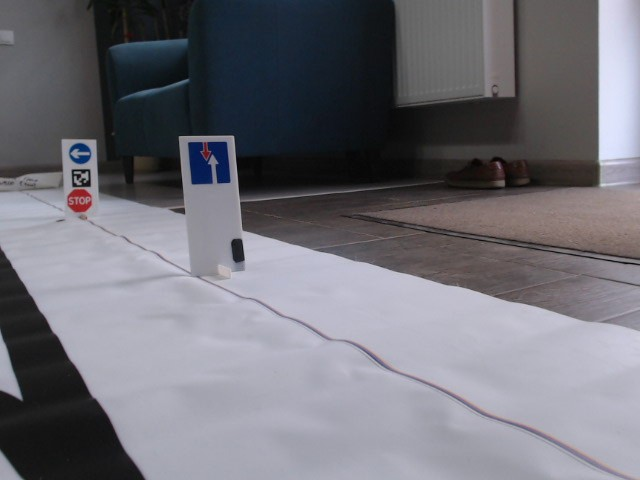Stop: (65, 187, 92, 213)
priority_movement: (186, 139, 233, 185)
